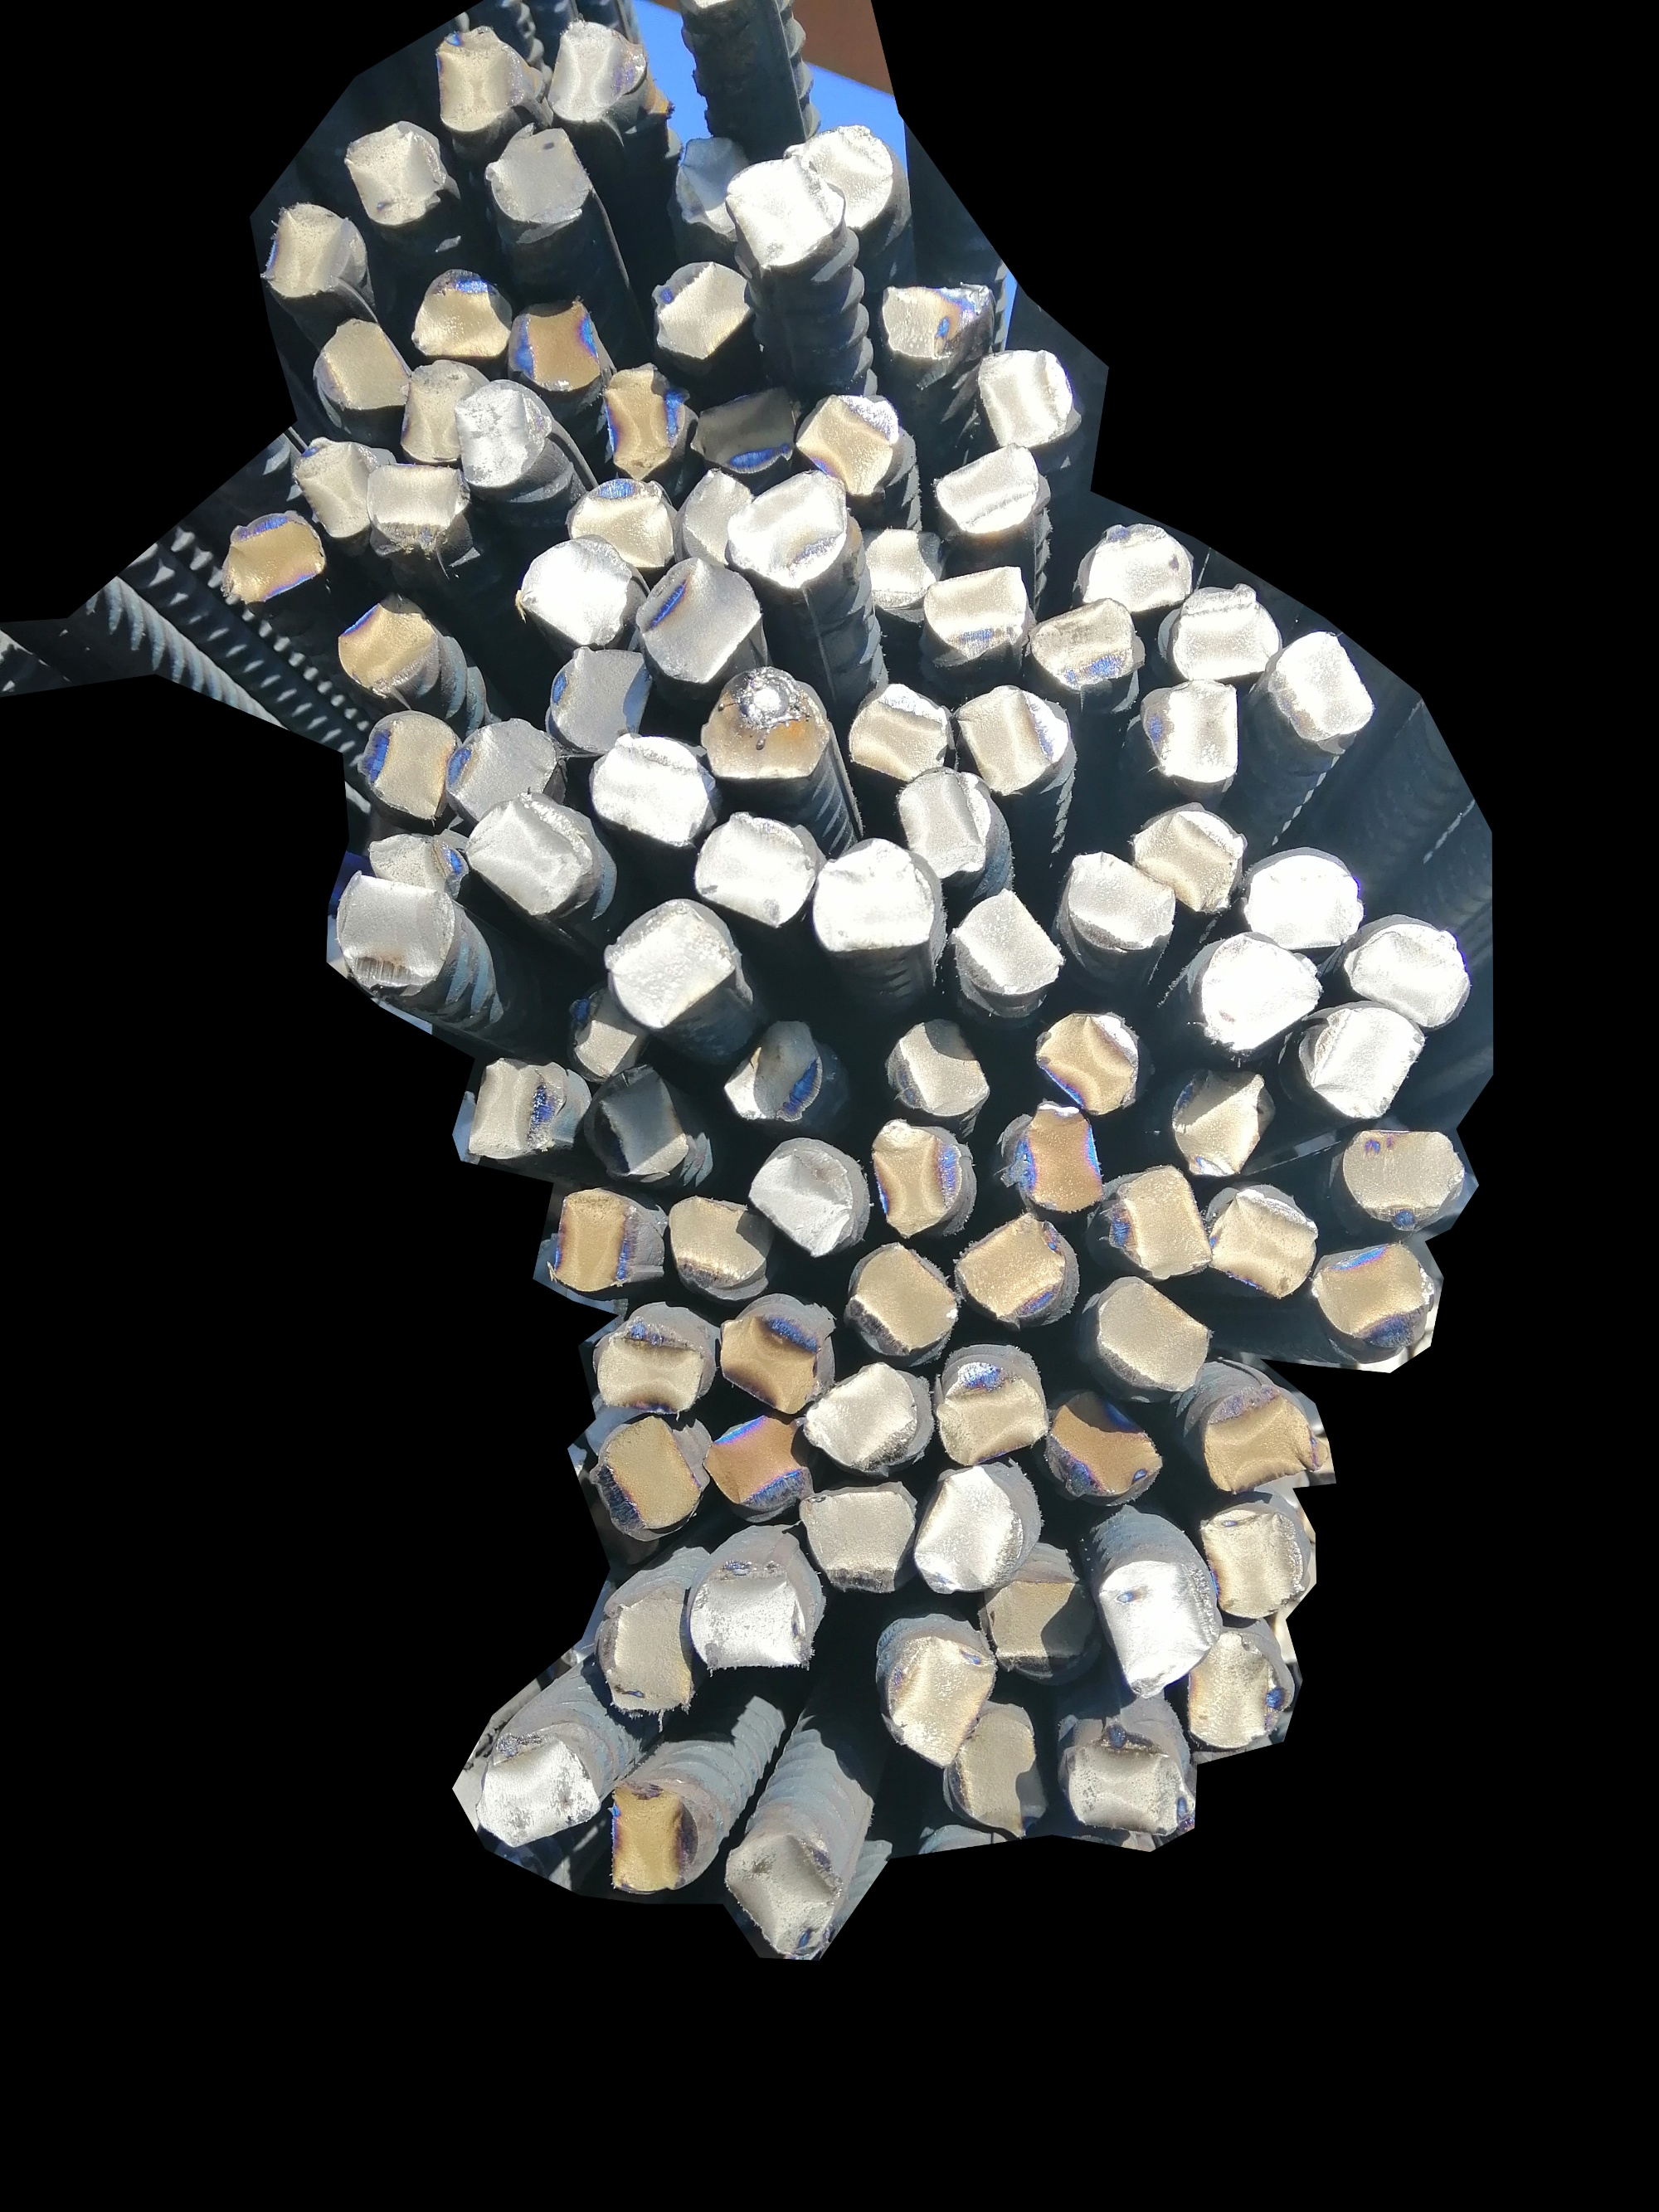rebar: (591, 896, 742, 1030), (1089, 1546, 1218, 1700), (634, 553, 770, 695), (474, 1724, 608, 1865), (720, 1822, 845, 1970), (721, 462, 854, 596), (458, 790, 594, 920), (1086, 1274, 1223, 1401), (697, 661, 836, 786), (805, 830, 936, 962), (1192, 926, 1324, 1056), (880, 1628, 1002, 1766), (1297, 1001, 1431, 1124), (1061, 1726, 1199, 1846), (688, 805, 819, 929), (1194, 1382, 1333, 1497), (687, 1555, 814, 1680), (586, 729, 718, 849), (934, 1706, 1051, 1842), (1338, 912, 1473, 1028), (714, 152, 845, 270), (795, 1480, 918, 1604), (333, 870, 457, 994), (587, 1412, 702, 1544), (591, 1579, 702, 1715), (1044, 1384, 1169, 1504), (1312, 1231, 1438, 1351), (511, 533, 640, 650), (911, 1466, 1025, 1598), (1202, 1177, 1319, 1304), (1124, 798, 1248, 917), (1199, 1504, 1317, 1626), (955, 678, 1072, 802), (979, 1564, 1096, 1686), (465, 1051, 587, 1168), (796, 1358, 922, 1471), (1234, 844, 1366, 950), (1058, 842, 1180, 957), (932, 1354, 1056, 1468), (1100, 1163, 1213, 1286), (842, 1239, 958, 1358), (775, 115, 894, 232), (953, 1210, 1073, 1325), (742, 1138, 857, 1259), (1166, 1062, 1277, 1185), (1183, 1626, 1295, 1748), (720, 1295, 829, 1419), (1337, 1123, 1462, 1231), (580, 1063, 694, 1182), (1161, 577, 1279, 690), (791, 389, 910, 502), (997, 1098, 1108, 1218), (587, 1307, 711, 1415), (345, 704, 457, 823), (603, 1780, 711, 1902), (443, 713, 566, 819), (1070, 514, 1199, 615), (716, 1014, 828, 1131), (950, 885, 1066, 997), (1267, 626, 1375, 746), (662, 1192, 784, 1299), (863, 1114, 965, 1239), (594, 354, 695, 481), (701, 1410, 814, 1523), (545, 641, 657, 757), (878, 1013, 995, 1123), (1033, 1008, 1143, 1123), (342, 112, 450, 228), (1026, 594, 1147, 699), (451, 377, 556, 497), (289, 432, 399, 544), (927, 441, 1047, 542), (481, 117, 592, 225), (894, 765, 997, 882), (540, 1184, 648, 1293), (1136, 678, 1243, 790), (917, 563, 1028, 669), (971, 347, 1082, 453), (561, 472, 678, 573), (352, 797, 474, 892), (429, 21, 532, 134), (216, 509, 329, 610), (394, 350, 495, 464), (545, 16, 647, 129), (843, 678, 950, 784), (688, 380, 803, 478), (652, 258, 756, 364), (256, 200, 368, 300), (877, 277, 1000, 366), (333, 591, 434, 699), (854, 519, 955, 628), (406, 263, 514, 364), (502, 296, 606, 397), (364, 457, 474, 553), (315, 314, 413, 418), (676, 469, 762, 575), (556, 983, 650, 1077), (673, 129, 748, 237)
